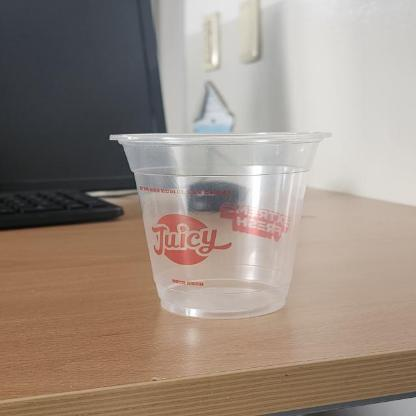Plastic Cup: (107, 131, 335, 318)
